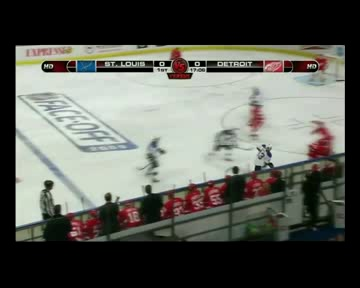normal: (136, 131, 164, 183)
